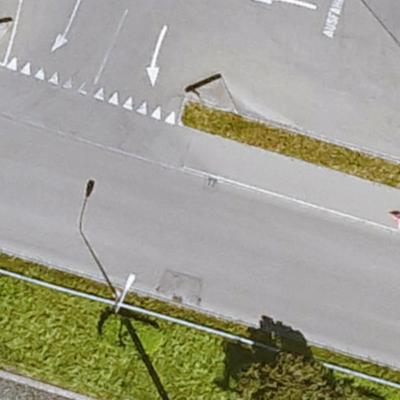tree: (228, 355, 334, 400)
